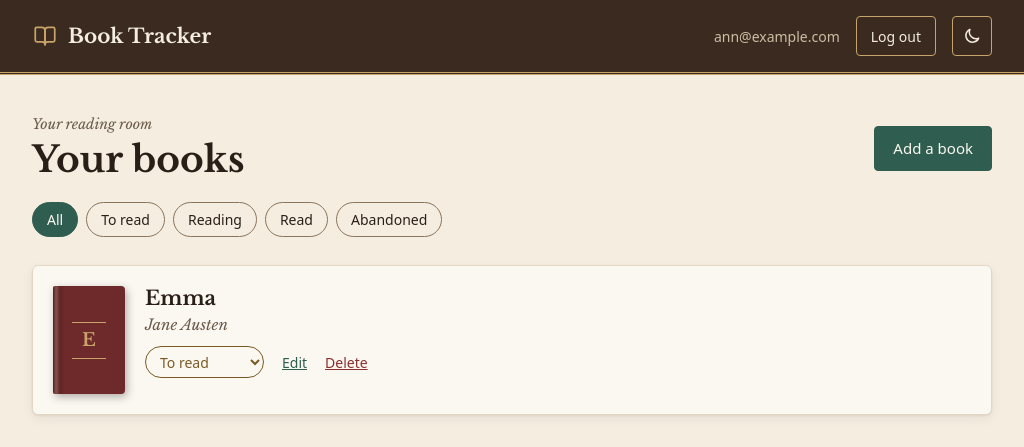
it: deleting › keeps the book and shows the error when deleting fails
Click the button with aria-label "Delete Emma". click: click(346, 362)
box: [325,352,368,372]
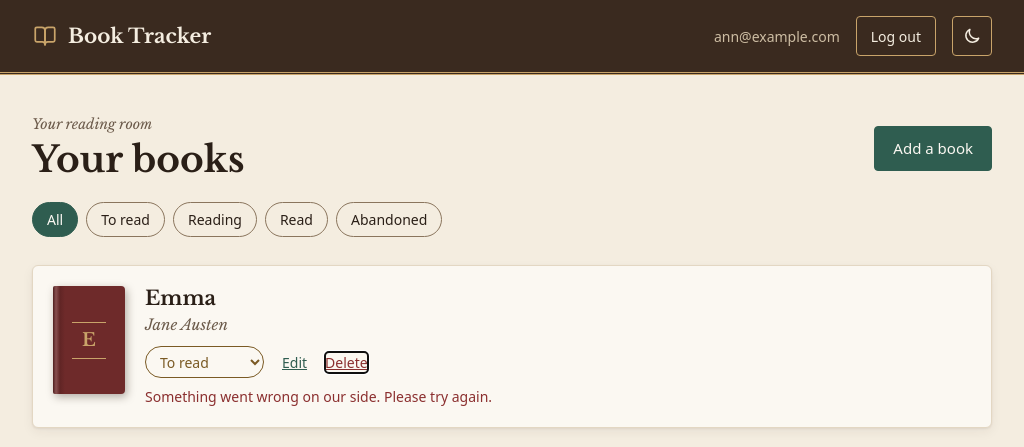
Check: the heading "Emma" is shown, box [145,286,216,310]
Check: the message shows "Something went wrong on our side", box [145,387,492,406]
